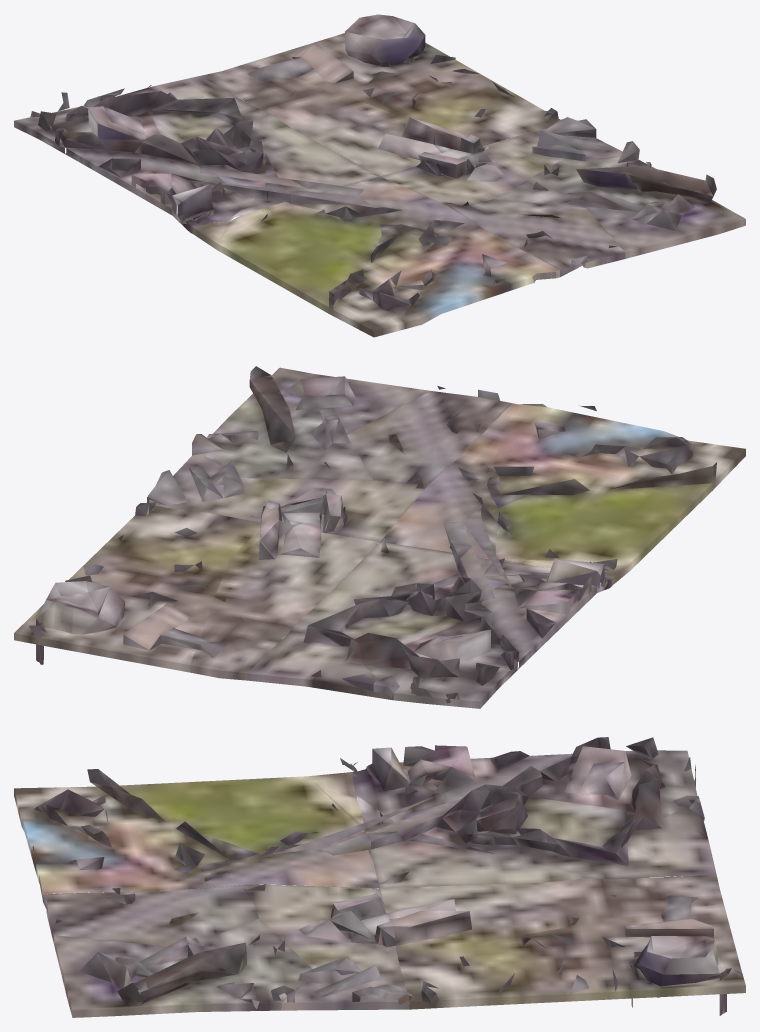
The picture shows the model from 3 angles, top to bottom: view 1: azimuth 30°, elevation 25°; view 2: azimuth 150°, elevation 25°; view 3: azimuth 270°, elevation 25°; orthographic projection. The views are drawn at different scales.
Visible parts, largest first — view 1: Mesh_0; view 2: Mesh_0; view 3: Mesh_0.
Boxes of the visible parts, x1=… form: Mesh_0: x1=14, y1=14, x2=745, y2=337; Mesh_0: x1=14, y1=366, x2=745, y2=708; Mesh_0: x1=14, y1=737, x2=745, y2=1017.
Size of the model in its own units: 532 by 76.98 by 659.
Materials: 1 (1 with a texture image).
